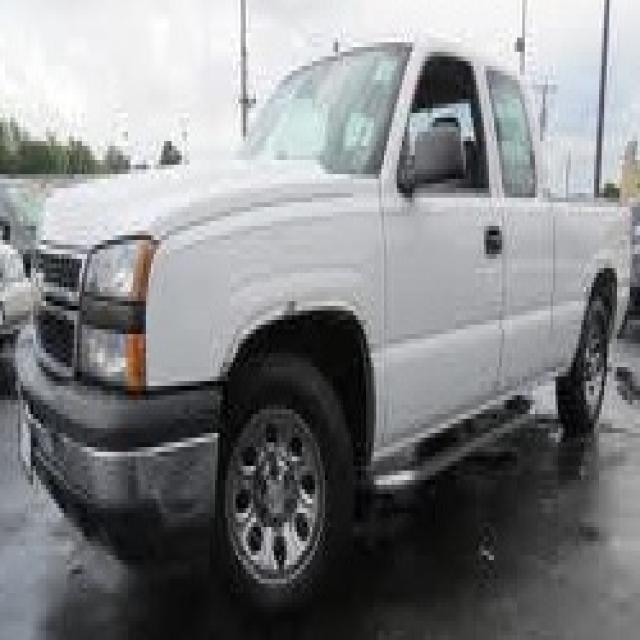CMT: (6, 29, 630, 605)
